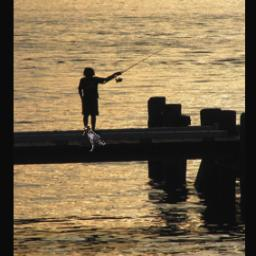Crow: (82, 124, 106, 151)
